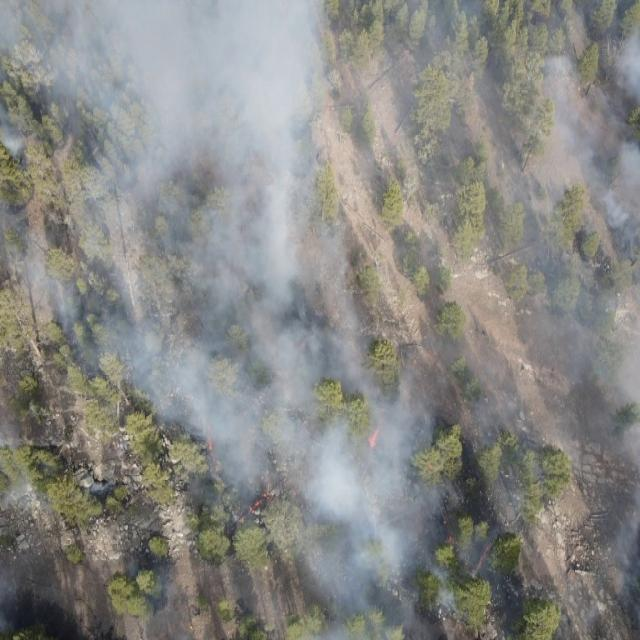fire: (201, 420, 225, 480), (233, 493, 274, 527), (364, 418, 388, 458), (472, 542, 492, 582), (441, 519, 457, 549), (295, 338, 307, 353)
smoke: (0, 1, 640, 243), (0, 244, 638, 424), (174, 420, 484, 640), (577, 424, 640, 640), (0, 422, 49, 632)
